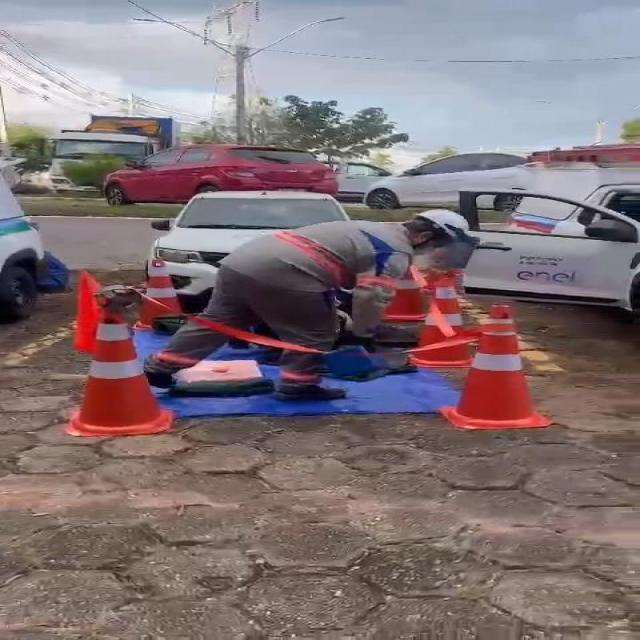Cone: (73, 304, 173, 437), (460, 299, 550, 435), (417, 269, 482, 360), (137, 254, 185, 328)
Helmet: (404, 199, 493, 260)
